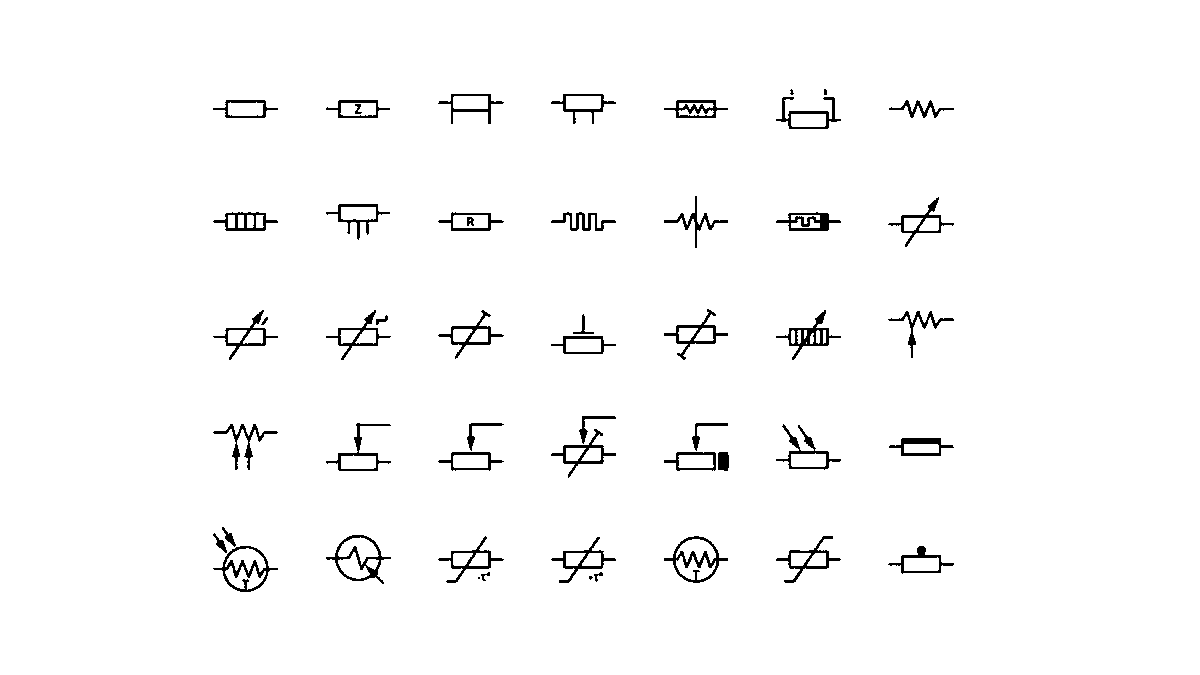R: (899, 189, 948, 241), (221, 95, 275, 133), (330, 90, 384, 125), (898, 543, 947, 580), (898, 96, 947, 127)
